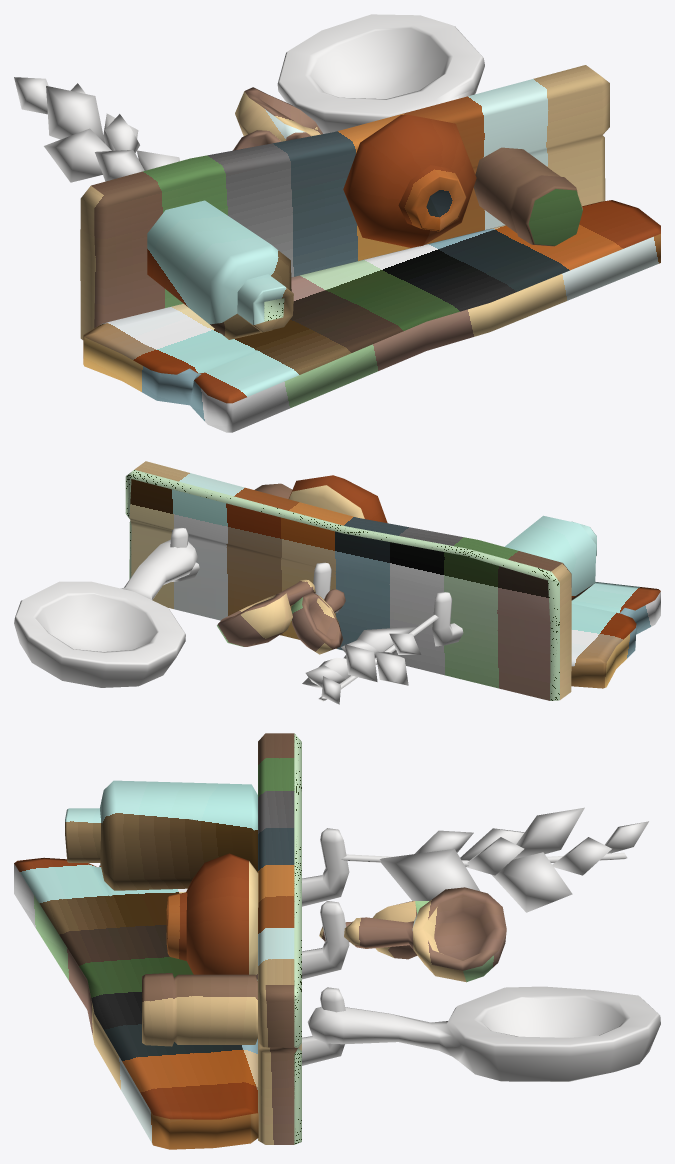
Rendered from P_AP22WallSpiceRack.glb.
The picture shows the model from 3 angles, top to bottom: view 1: azimuth 30°, elevation 25°; view 2: azimuth 150°, elevation 25°; view 3: azimuth 270°, elevation 25°; orthographic projection. The views are drawn at different scales.
Visible parts, largest first — view 1: P_AP22WallSpiceRack; view 2: P_AP22WallSpiceRack; view 3: P_AP22WallSpiceRack.
Part boxes in pixels (x1,y1,x2,y2): P_AP22WallSpiceRack: (14,14,660,432); P_AP22WallSpiceRack: (14,461,660,704); P_AP22WallSpiceRack: (14,733,660,1149).
Bounding box in the file's own units: 1.07 × 0.3229 × 1.05.
1 material, 1 textured.
